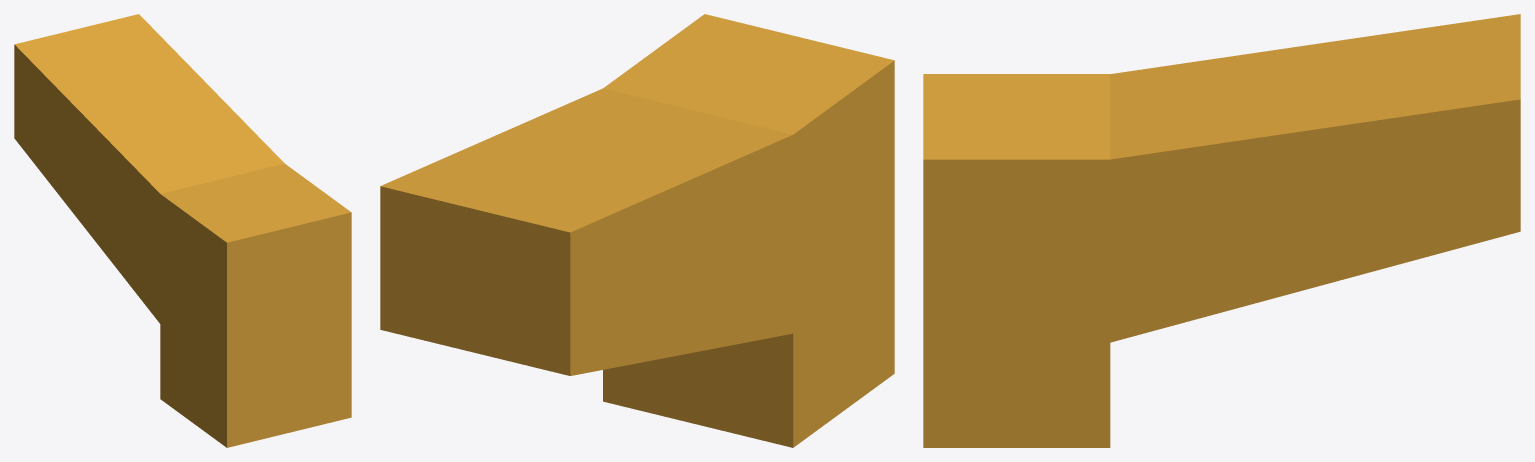
File: toilet_handle.fbx
3 views of the same model, side by side, from view 1: azimuth 30°, elevation 25°; view 2: azimuth 150°, elevation 25°; view 3: azimuth 270°, elevation 25° (orthographic). The views are drawn at different scales.
Parts seen in each view (by area): view 1: Cube.065; view 2: Cube.065; view 3: Cube.065.
Part boxes in pixels (x1,y1,x2,y2): Cube.065: [14, 14, 351, 447]; Cube.065: [380, 14, 894, 447]; Cube.065: [923, 14, 1520, 447].
Bounding box in the file's own units: 10.51 × 20.01 × 31.09.
